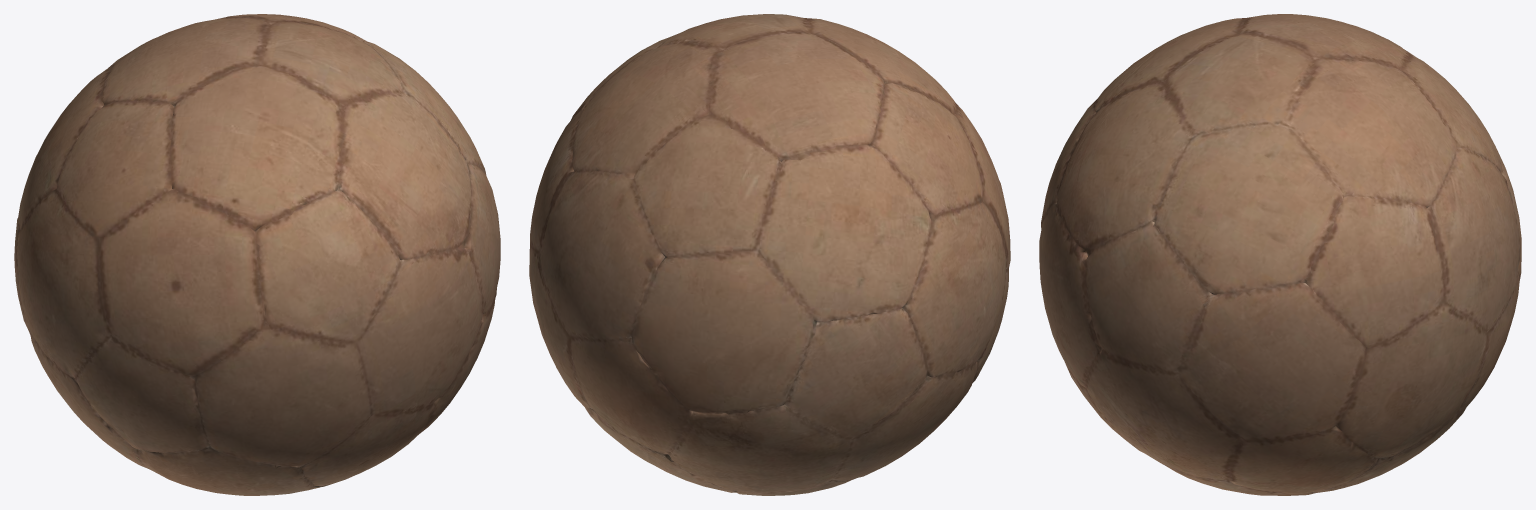
The model's file is football.glb.
The picture shows the model from 3 angles, left to right: view 1: azimuth 30°, elevation 25°; view 2: azimuth 150°, elevation 25°; view 3: azimuth 270°, elevation 25°; orthographic projection.
Parts seen in each view (by area): view 1: football; view 2: football; view 3: football.
Boxes of the visible parts, <box> form: football: <box>14,14,500,495</box>; football: <box>529,14,1010,495</box>; football: <box>1039,14,1521,495</box>.
Size of the model in its own units: 0.2215 by 0.2201 by 0.2199.
Materials: 1 (1 with a texture image).
